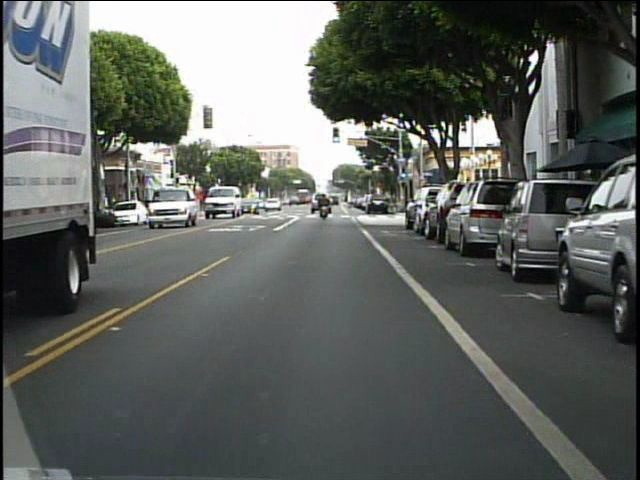person: (317, 191, 332, 220)
